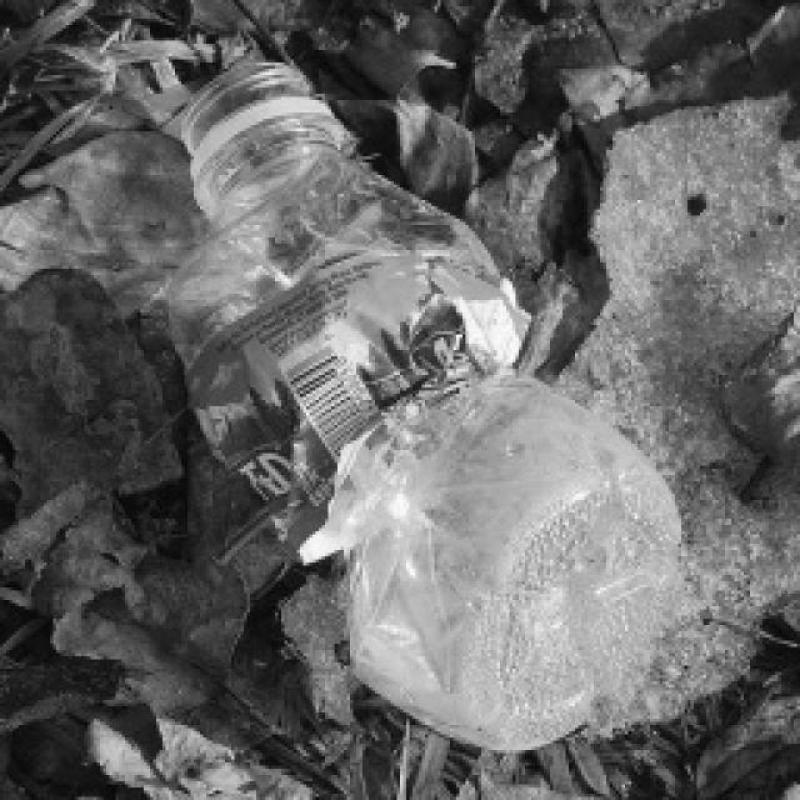botella: (162, 59, 682, 756)
